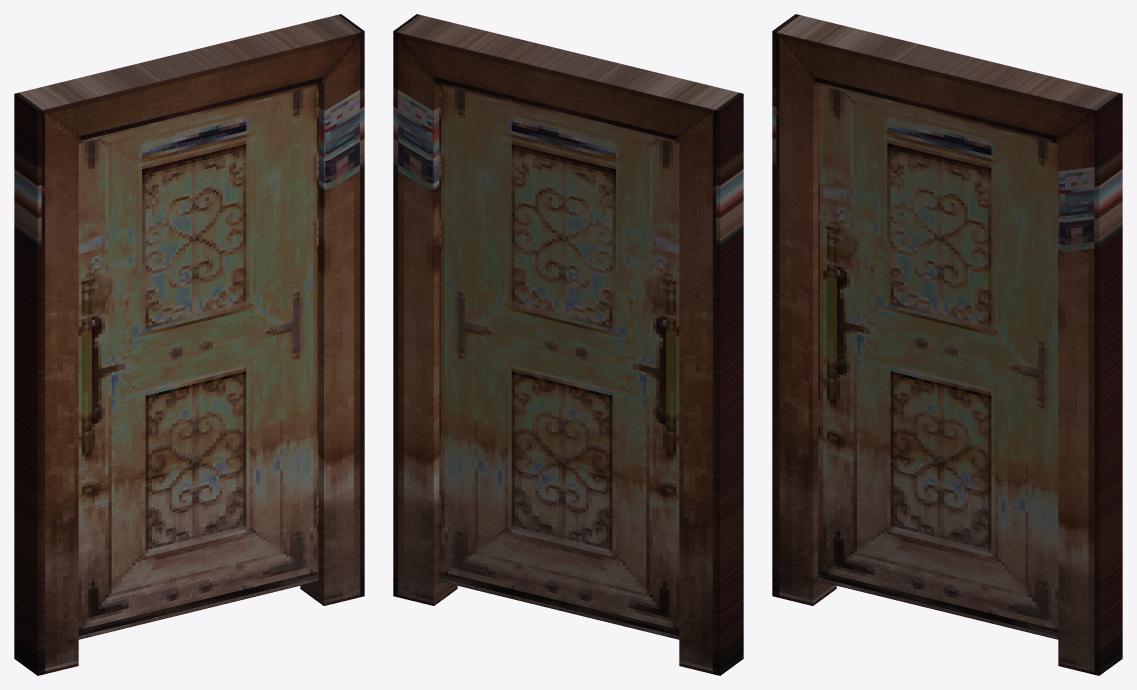
The model's file is env_door (1).glb.
3 views of the same model, side by side, from view 1: azimuth 30°, elevation 25°; view 2: azimuth 150°, elevation 25°; view 3: azimuth 330°, elevation 25° (orthographic).
Visible parts, largest first — view 1: env_door_closed.001, env_door_frame; view 2: env_door_closed.001, env_door_frame; view 3: env_door_closed.001, env_door_frame.
Part boxes in pixels (x1=…): env_door_closed.001: x1=78, y1=85, x2=318, y2=639; env_door_frame: x1=14, y1=14, x2=364, y2=675; env_door_closed.001: x1=439, y1=85, x2=679, y2=639; env_door_frame: x1=393, y1=14, x2=743, y2=675; env_door_closed.001: x1=818, y1=85, x2=1058, y2=639; env_door_frame: x1=772, y1=14, x2=1122, y2=675.
Bounding box in the file's own units: 1.6 × 2.64 × 0.2.
2 materials, 2 textured.
